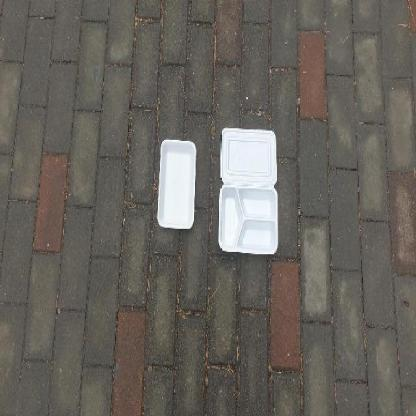Glass Cup: (219, 126, 278, 255), (219, 127, 278, 253), (156, 138, 198, 229), (158, 139, 196, 229)
